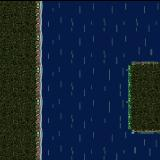Interaction: (26, 0, 52, 160)
Slow: (43, 0, 160, 58), (44, 59, 126, 132), (44, 133, 160, 160)
